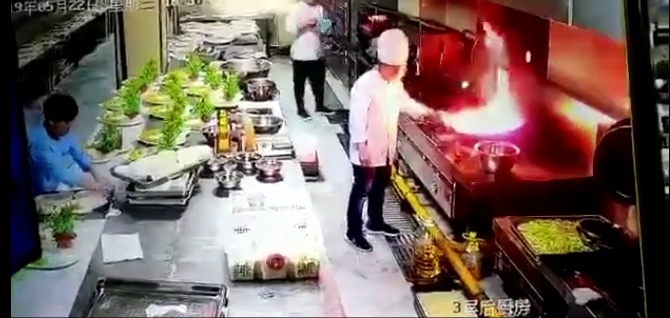fire: (461, 69, 527, 132)
